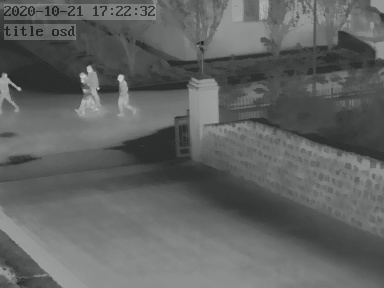person: (79, 63, 102, 113), (115, 73, 137, 117), (1, 74, 18, 113)
